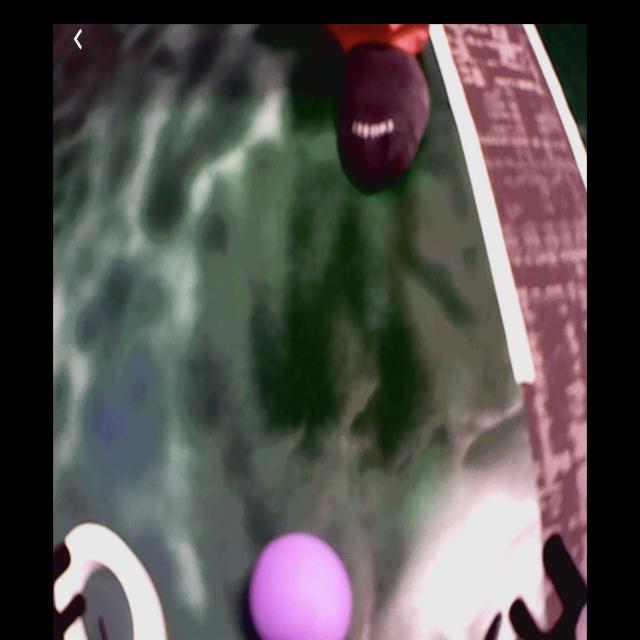ball: (249, 534, 354, 640)
